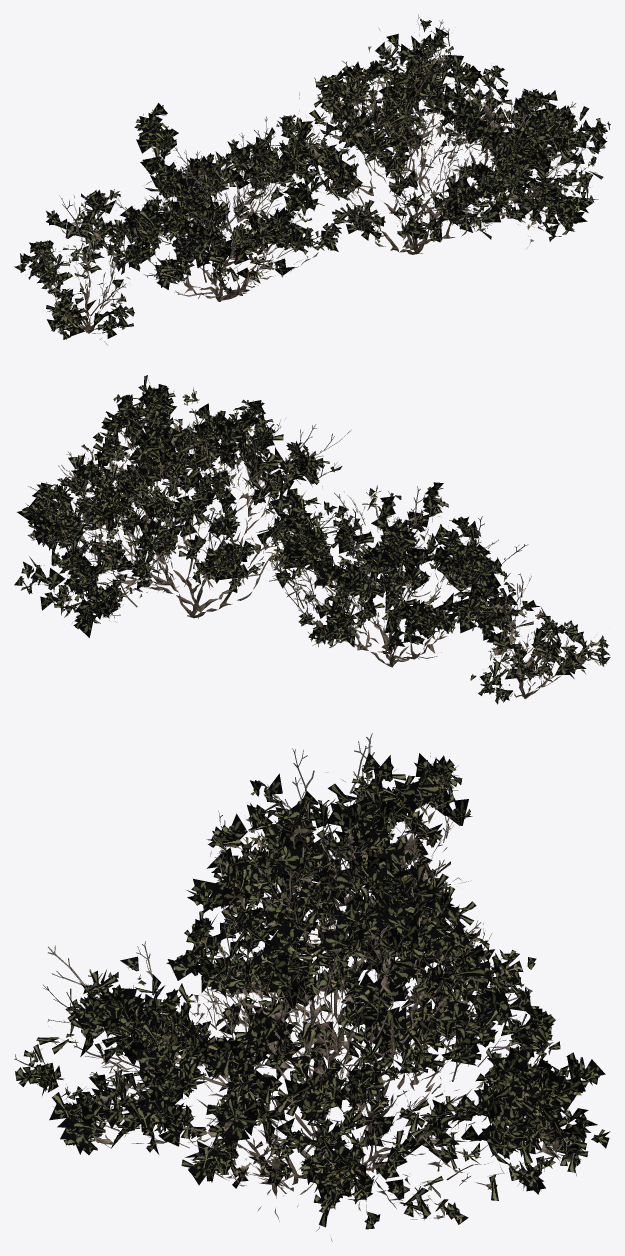
The model's file is shrub.glb.
3 renders of one model, top to bottom at view 1: azimuth 30°, elevation 25°; view 2: azimuth 150°, elevation 25°; view 3: azimuth 270°, elevation 25°, orthographic. The views are drawn at different scales.
Parts seen in each view (by area): view 1: lod0; view 2: lod0; view 3: lod0.
Boxes of the visible parts, <box> form: lod0: <box>14,14,610,344</box>; lod0: <box>14,375,610,704</box>; lod0: <box>14,733,610,1241</box>.
Size of the model in its own units: 6.63 by 2.59 by 4.1.
2 materials, 2 textured.
